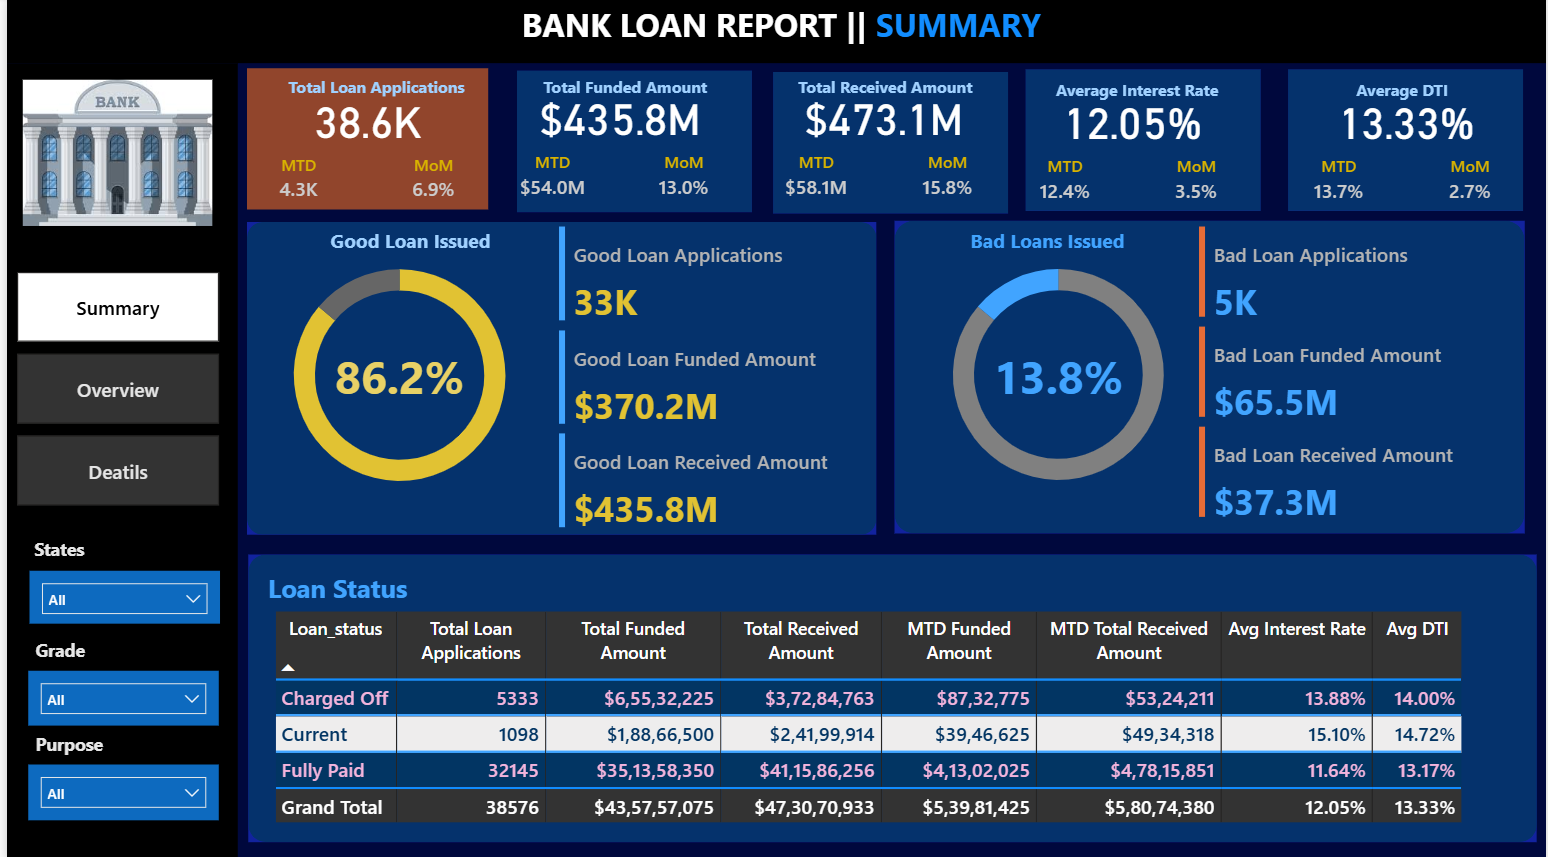

This screenshot's page, from the dashboard's own definition file:
{"tool":"powerbi","page":{"name":"Summary","canvas":[1280,720],"ordinal":0},"visuals":[{"type":"shape","box":[199.5,59.2,200.5,117.4],"z":0,"group":"g1"},{"type":"shape","box":[847.3,60,195.3,117.4],"z":0,"group":"g4"},{"type":"shape","box":[1065.6,60,195.3,117.4],"z":0,"group":"g5"},{"type":"shape","box":[423.4,61.3,195.4,117.4],"z":0,"group":"g2"},{"type":"shape","box":[636.6,62.9,195.4,117.4],"z":0,"group":"g3"},{"type":"shape","box":[200,186.7,523.3,260],"z":0},{"type":"card","fields":{"Values":["bank_loan_data.Total Funded Amount"]},"box":[412.6,74,194.4,48.9],"z":1000,"group":"g2"},{"type":"card","fields":{"Values":["bank_loan_data.Total Received Amount"]},"box":[632.3,74.3,194.4,48.9],"z":1000,"group":"g3"},{"type":"card","fields":{"Values":["bank_loan_data.Total Loan Applications"]},"box":[201,76.7,199.6,48.9],"z":1000,"group":"g1"},{"type":"card","fields":{"Values":["bank_loan_data.Avg Interest Rate"]},"box":[839.3,77.3,194.4,48.9],"z":1000,"group":"g4"},{"type":"card","fields":{"Values":["bank_loan_data.Avg DTI"]},"box":[1067.1,77.5,194.4,48.9],"z":1000,"group":"g5"},{"type":"donutChart","fields":{"Category":["bank_loan_data.Good vs Bad Loans"],"Y":["bank_loan_data.Total Loan Applications"]},"box":[201.1,200,250,230],"z":1000},{"type":"shape","box":[0,0,1280.3,55],"z":2000},{"type":"textbox","box":[411.1,60,195.3,27.9],"z":2000,"group":"g2"},{"type":"textbox","box":[630.8,60.3,195.3,27.9],"z":2000,"group":"g3"},{"type":"textbox","box":[199.7,60.5,198.5,27.8],"z":2000,"group":"g1"},{"type":"textbox","box":[837.8,63.3,195.3,27.9],"z":2000,"group":"g4"},{"type":"textbox","box":[1065.6,63.5,195.3,27.9],"z":2000,"group":"g5"},{"type":"card","title":"MTD","fields":{"Values":["bank_loan_data.MTD Funded Amount"]},"box":[420.4,127.4,65.6,46.7],"z":3000,"group":"g2"},{"type":"card","title":"MTD","fields":{"Values":["bank_loan_data.MTD Total Received Amount"]},"box":[640.1,127.7,65.6,46.7],"z":3000,"group":"g3"},{"type":"card","title":"MTD","fields":{"Values":["bank_loan_data.MTD Loan Applications"]},"box":[209,130.1,67.3,46.7],"z":3000,"group":"g1"},{"type":"card","title":"MTD","fields":{"Values":["bank_loan_data.MTD Avg Interest Rate"]},"box":[847.1,130.6,65.6,46.7],"z":3000,"group":"g4"},{"type":"card","title":"MTD","fields":{"Values":["bank_loan_data.MTD Avg DTI"]},"box":[1074.9,130.9,65.6,46.7],"z":3000,"group":"g5"},{"type":"textbox","box":[229.1,186,193,43],"z":3000},{"type":"shape","box":[0,54.7,191.9,665.1],"z":4000},{"type":"card","title":"MoM","fields":{"Values":["bank_loan_data.MoM Funded Amount"]},"box":[529.2,127.4,65.6,46.7],"z":4000,"group":"g2"},{"type":"card","title":"MoM","fields":{"Values":["bank_loan_data.MoM Total Received Amount"]},"box":[748.9,127.7,65.6,46.7],"z":4000,"group":"g3"},{"type":"card","title":"MoM","fields":{"Values":["bank_loan_data.MoM Loan Applications"]},"box":[320.8,130.1,67.3,46.7],"z":4000,"group":"g1"},{"type":"card","title":"MoM","fields":{"Values":["bank_loan_data.MoM Avg Interest Rate"]},"box":[955.9,130.6,65.6,46.7],"z":4000,"group":"g4"},{"type":"card","title":"MoM","fields":{"Values":["bank_loan_data.MoM Avg DTI"]},"box":[1183.7,130.9,65.6,46.7],"z":4000,"group":"g5"},{"type":"card","fields":{"Values":["bank_loan_data.Good Loan %"]},"box":[261.1,292.2,131.1,46.7],"z":5000},{"type":"textbox","box":[422.6,0,716.3,56.3],"z":6000},{"type":"group","id":"g1","title":"Group 1","box":[199.5,59.2,198.5,117.4],"z":7000},{"type":"group","id":"g2","title":"Group 1","box":[411.1,60,207.8,120],"z":8000},{"type":"group","id":"g3","title":"Group 1","box":[630.8,60.3,201.6,120.6],"z":9000},{"type":"group","id":"g4","title":"Group 1","box":[837.8,60,204.4,117.8],"z":10000},{"type":"group","id":"g5","title":"Group 1","box":[1065.6,60,195.6,117.8],"z":11000},{"type":"shape","box":[737.9,186,523.8,259.8],"z":12000},{"type":"cardVisual","fields":{"Data":["bank_loan_data.Good Loan Applications","bank_loan_data.Good Loan Funded Amount","bank_loan_data.Good Loan Received Amount"]},"box":[454.7,186,252.3,260.5],"z":13000},{"type":"donutChart","fields":{"Category":["bank_loan_data.Good vs Bad Loans"],"Y":["bank_loan_data.Total Loan Applications"]},"box":[748.8,200,250,229.1],"z":14000},{"type":"shape","box":[200.6,463.5,1071.5,239],"z":15000},{"type":"textbox","box":[796.5,186,154.7,32.6],"z":16000},{"type":"card","fields":{"Values":["bank_loan_data.Bad Loan %"]},"box":[808.1,291.9,131.4,46.5],"z":17000},{"type":"cardVisual","fields":{"Data":["bank_loan_data.Bad Loan Applications","bank_loan_data.Bad Loan Funded Amount","bank_loan_data.Bad Loan Received Amount"]},"box":[986,186,252.3,252.3],"z":18000},{"type":"tableEx","fields":{"Values":["bank_loan_data.loan_status","bank_loan_data.Total Loan Applications","bank_loan_data.Total Funded Amount","bank_loan_data.Total Received Amount","bank_loan_data.MTD Funded Amount","bank_loan_data.MTD Total Received Amount","bank_loan_data.Avg Interest Rate","bank_loan_data.Avg DTI"]},"box":[217.4,505.8,1020.9,200],"z":19000},{"type":"textbox","box":[211.6,472.1,164,53.5],"z":20000},{"type":"slicer","fields":{"Values":["bank_loan_data.address_state"]},"box":[18.6,476.7,158.1,44.2],"z":21000},{"type":"textbox","box":[17.4,444.2,65.1,32.6],"z":22000},{"type":"slicer","fields":{"Values":["bank_loan_data.grade"]},"box":[17.4,560.5,158.1,45.3],"z":23000},{"type":"textbox","box":[18.6,527.9,65.1,32.6],"z":24000},{"type":"slicer","fields":{"Values":["bank_loan_data.purpose"]},"box":[17.4,638.4,158.1,46.5],"z":25000},{"type":"textbox","box":[18.6,605.8,80.2,32.6],"z":26000},{"type":"image","box":[8.1,41.9,167.4,176.7],"z":26001},{"type":"pageNavigator","box":[8.1,229.1,168.6,194.2],"z":26002}]}

Visuals, with their boxes in screenshot pixels (x1, y1, x2, y2), scaled from the page's 1280x720 canvas onto the 1548x857 screenshot:
shape: locate(241, 70, 484, 210)
shape: locate(1025, 71, 1261, 211)
shape: locate(1289, 71, 1525, 211)
shape: locate(512, 73, 748, 213)
shape: locate(770, 75, 1006, 215)
shape: locate(242, 222, 875, 532)
card - bank_loan_data.Total Funded Amount: locate(499, 88, 734, 146)
card - bank_loan_data.Total Received Amount: locate(765, 88, 1000, 147)
card - bank_loan_data.Total Loan Applications: locate(243, 91, 484, 149)
card - bank_loan_data.Avg Interest Rate: locate(1015, 92, 1250, 150)
card - bank_loan_data.Avg DTI: locate(1291, 92, 1526, 150)
donutChart - bank_loan_data.Good vs Bad Loans x bank_loan_data.Total Loan Applications: locate(243, 238, 546, 512)
shape: locate(0, 0, 1547, 65)
textbox: locate(497, 71, 733, 105)
textbox: locate(763, 72, 999, 105)
textbox: locate(242, 72, 482, 105)
textbox: locate(1013, 75, 1249, 109)
textbox: locate(1289, 76, 1525, 109)
"MTD" card: locate(508, 152, 588, 207)
"MTD" card: locate(774, 152, 853, 208)
"MTD" card: locate(253, 155, 334, 210)
"MTD" card: locate(1024, 155, 1104, 211)
"MTD" card: locate(1300, 156, 1379, 211)
textbox: locate(277, 221, 510, 273)
shape: locate(0, 65, 232, 856)
"MoM" card: locate(640, 152, 719, 207)
"MoM" card: locate(906, 152, 985, 208)
"MoM" card: locate(388, 155, 469, 210)
"MoM" card: locate(1156, 155, 1235, 211)
"MoM" card: locate(1432, 156, 1511, 211)
card - bank_loan_data.Good Loan %: locate(316, 348, 474, 403)
textbox: locate(511, 0, 1377, 67)
"Group 1" group: locate(241, 70, 481, 210)
"Group 1" group: locate(497, 71, 748, 214)
"Group 1" group: locate(763, 72, 1007, 215)
"Group 1" group: locate(1013, 71, 1260, 212)
"Group 1" group: locate(1289, 71, 1525, 212)
shape: locate(892, 221, 1526, 531)
cardVisual - bank_loan_data.Good Loan Applications x bank_loan_data.Good Loan Funded Amount: locate(550, 221, 855, 531)
donutChart - bank_loan_data.Good vs Bad Loans x bank_loan_data.Total Loan Applications: locate(906, 238, 1208, 511)
shape: locate(243, 552, 1538, 836)
textbox: locate(963, 221, 1150, 260)
card - bank_loan_data.Bad Loan %: locate(977, 347, 1136, 403)
cardVisual - bank_loan_data.Bad Loan Applications x bank_loan_data.Bad Loan Funded Amount: locate(1192, 221, 1498, 522)
tableEx - bank_loan_data.loan_status x bank_loan_data.Total Loan Applications: locate(263, 602, 1498, 840)
textbox: locate(256, 562, 454, 626)
slicer - bank_loan_data.address_state: locate(22, 567, 214, 620)
textbox: locate(21, 529, 100, 568)
slicer - bank_loan_data.grade: locate(21, 667, 212, 721)
textbox: locate(22, 628, 101, 667)
slicer - bank_loan_data.purpose: locate(21, 760, 212, 815)
textbox: locate(22, 721, 119, 760)
image: locate(10, 50, 212, 260)
pageNavigator: locate(10, 273, 214, 504)
